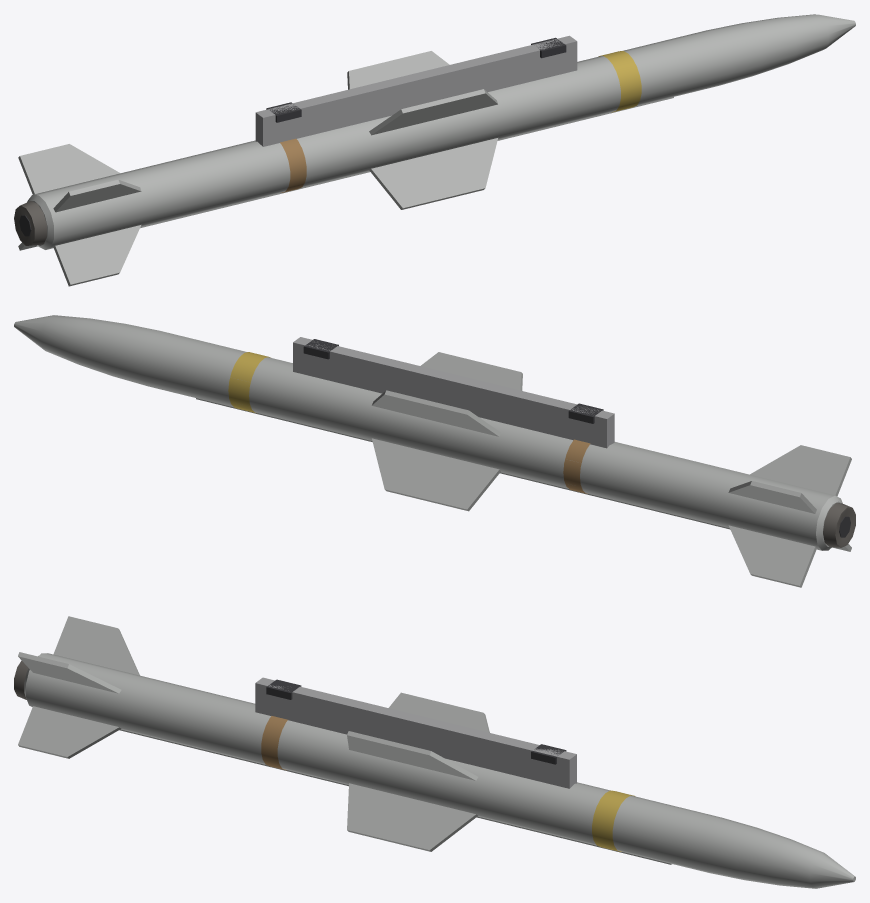
Rendered from aam_1.glb.
The picture shows the model from 3 angles, top to bottom: view 1: azimuth 30°, elevation 25°; view 2: azimuth 150°, elevation 25°; view 3: azimuth 330°, elevation 25°; orthographic projection.
Visible parts, largest first — view 1: aam_1; view 2: aam_1; view 3: aam_1.
Part boxes in pixels (<box>): aam_1: <box>14,14,855,286</box>; aam_1: <box>14,315,855,587</box>; aam_1: <box>14,616,855,888</box>.
Bounding box in the file's own units: 1 × 0.1203 × 0.1167.
